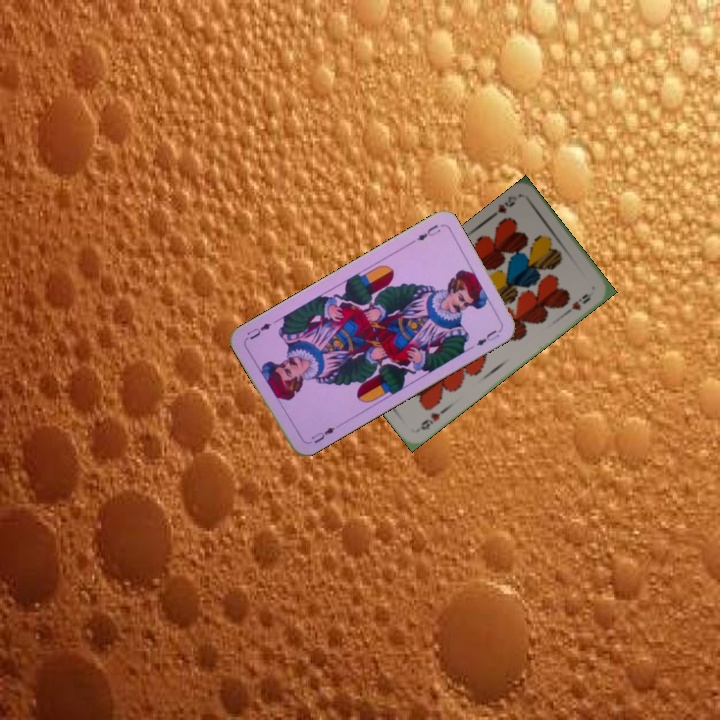EU: (304, 421, 341, 447), (413, 220, 443, 243)
H9: (486, 191, 519, 221), (416, 408, 443, 433)
